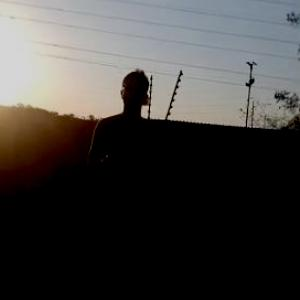follow: (82, 63, 163, 299)
